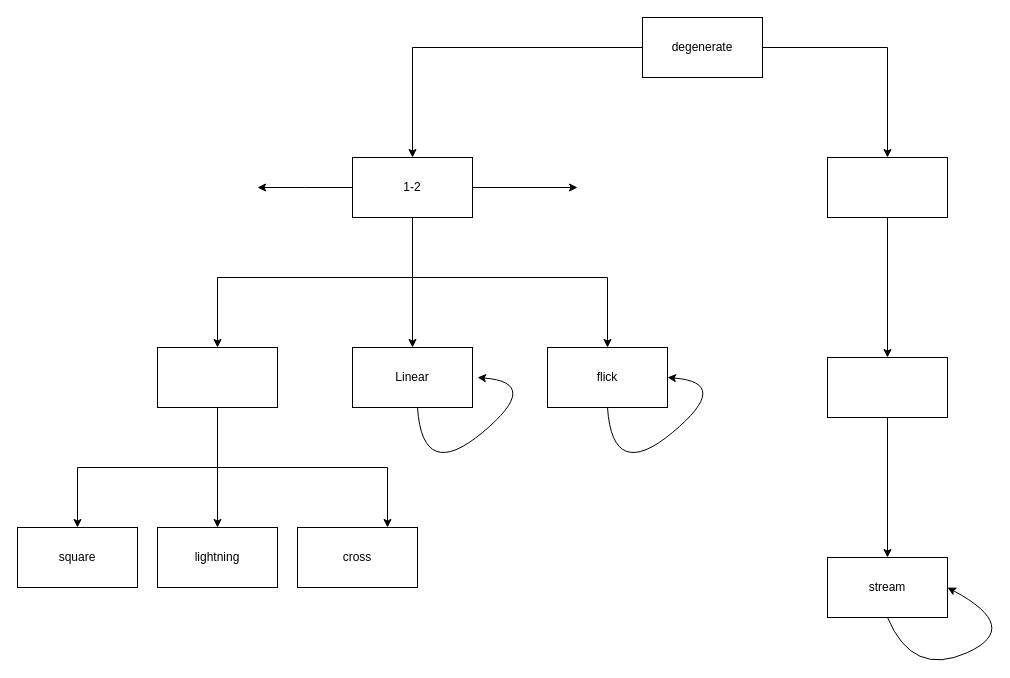
This 1010x678 diagram has some shape labels left out. The shapes that lost their labels are listed below. From the top down, each one's box as (x1, y1, x2, y2) in pixels, then its label:
(826, 156, 948, 218): double
(156, 346, 278, 408): triangle
(826, 356, 948, 418): triple
